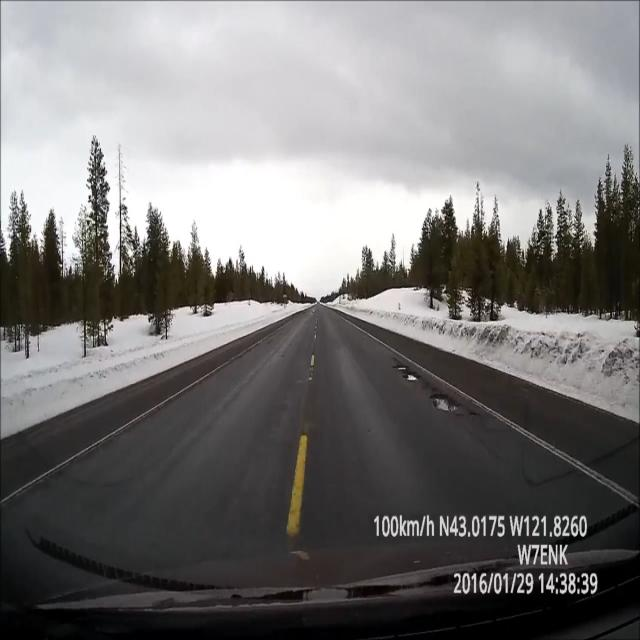Pothole: (429, 389, 472, 436), (392, 353, 424, 394)
